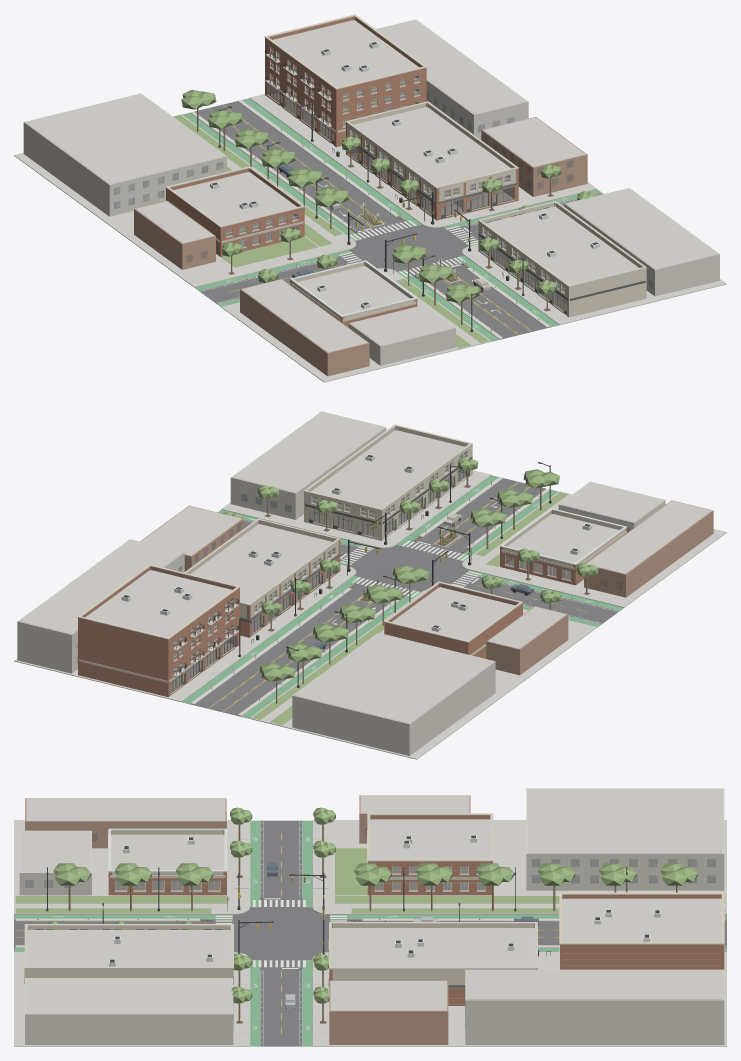
File: clay-road-diet-complete-street-clay-v001.glb
The picture shows the model from 3 angles, top to bottom: view 1: azimuth 30°, elevation 25°; view 2: azimuth 150°, elevation 25°; view 3: azimuth 270°, elevation 25°; orthographic projection. The views are drawn at different scales.
Visible parts, largest first — view 1: CLAY_MEMBRANE, CLAY_CONCRETE, CLAY_CONTEXT, CLAY_ASPHALT, CLAY_WALL, CLAY_NEIGHBOUR, CLAY_PLANTING, CLAY_GLASS, CLAY_GREEN, CLAY_CREAM, CLAY_STONE, CLAY_STUCCO (+9 smaller); view 2: CLAY_MEMBRANE, CLAY_CONTEXT, CLAY_WALL, CLAY_ASPHALT, CLAY_CONCRETE, CLAY_PLANTING, CLAY_NEIGHBOUR, CLAY_GREEN, CLAY_GLASS, CLAY_CREAM, CLAY_STONE, CLAY_STUCCO (+10 smaller); view 3: CLAY_MEMBRANE, CLAY_CONTEXT, CLAY_CONCRETE, CLAY_ASPHALT, CLAY_WALL, CLAY_PLANTING, CLAY_NEIGHBOUR, CLAY_GRASS, CLAY_GREEN, CLAY_CREAM, CLAY_STONE, CLAY_GLASS (+9 smaller).
Boxes of the visible parts, x1,y1,x2,y2 form: CLAY_MEMBRANE: [25, 20, 717, 352]; CLAY_CONCRETE: [14, 94, 726, 382]; CLAY_CONTEXT: [23, 19, 719, 365]; CLAY_ASPHALT: [190, 100, 708, 380]; CLAY_WALL: [166, 16, 518, 327]; CLAY_NEIGHBOUR: [134, 116, 587, 376]; CLAY_PLANTING: [181, 90, 597, 302]; CLAY_GLASS: [113, 48, 652, 310]; CLAY_GREEN: [182, 98, 600, 341]; CLAY_CREAM: [264, 14, 515, 321]; CLAY_STONE: [165, 53, 646, 315]; CLAY_STUCCO: [478, 203, 646, 317]; CLAY_MEMBRANE: [19, 412, 711, 723]; CLAY_CONTEXT: [17, 411, 665, 755]; CLAY_WALL: [78, 510, 626, 697]; CLAY_ASPHALT: [52, 477, 624, 758]; CLAY_CONCRETE: [14, 470, 726, 759]; CLAY_PLANTING: [222, 457, 598, 681]; CLAY_NEIGHBOUR: [140, 500, 713, 675]; CLAY_GREEN: [182, 475, 623, 718]; CLAY_GLASS: [77, 451, 630, 691]; CLAY_CREAM: [77, 510, 626, 682]; CLAY_STONE: [170, 424, 571, 694]; CLAY_STUCCO: [304, 426, 472, 540]; CLAY_MEMBRANE: [21, 788, 722, 1013]; CLAY_CONTEXT: [19, 788, 724, 1044]; CLAY_CONCRETE: [14, 820, 726, 1046]; CLAY_ASPHALT: [14, 820, 726, 1046]; CLAY_WALL: [108, 815, 724, 1005]; CLAY_PLANTING: [47, 807, 697, 1003]; CLAY_NEIGHBOUR: [25, 795, 470, 1044]; CLAY_GRASS: [15, 848, 725, 913]; CLAY_GREEN: [14, 820, 726, 1046]; CLAY_CREAM: [108, 830, 724, 993]; CLAY_STONE: [24, 813, 559, 987]; CLAY_GLASS: [25, 812, 715, 1030].
Bounding box in the file's own units: 96 × 13.46 × 128.
